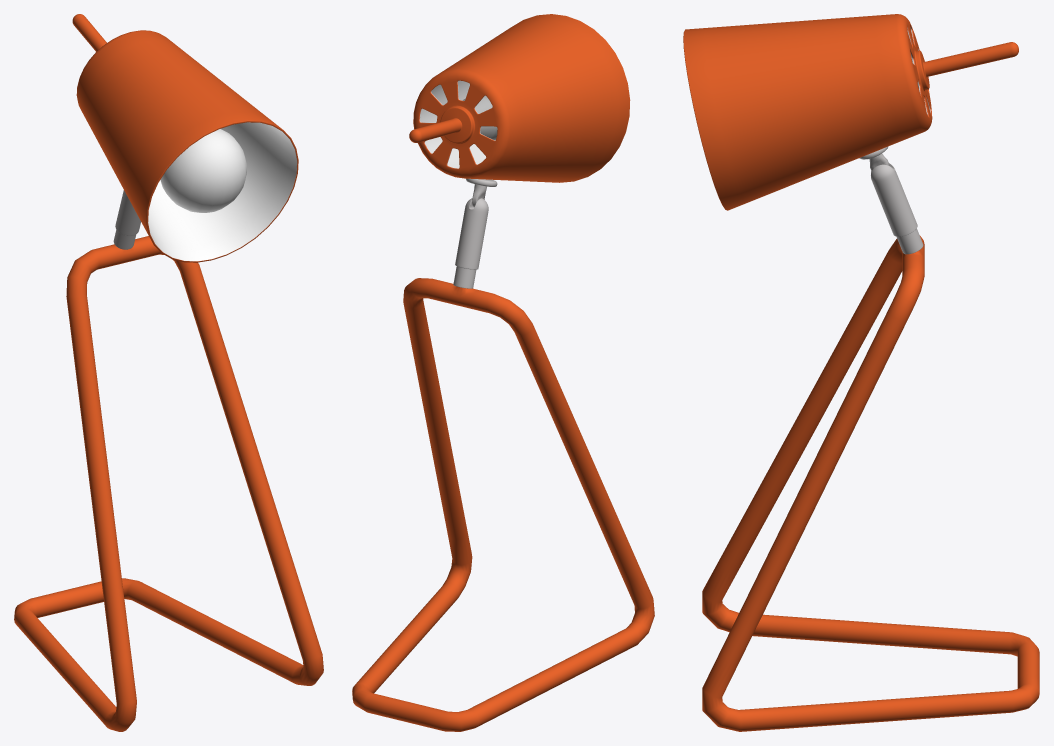
File: Lamp.obj
3 renders of one model, left to right at view 1: azimuth 30°, elevation 25°; view 2: azimuth 150°, elevation 25°; view 3: azimuth 270°, elevation 25°, orthographic. The views are drawn at different scales.
Parts seen in each view (by area): view 1: Table; view 2: Table; view 3: Table.
Boxes of the visible parts, x1,y1,x2,y2 form: Table: (14,14,323,731); Table: (352,14,654,731); Table: (683,14,1039,731).
Bounding box in the file's own units: 12.17 × 35.01 × 17.04.
1 material, 1 textured.
